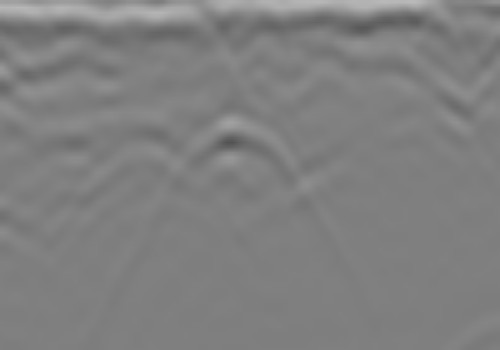hyperbola: (108, 113, 354, 285)
